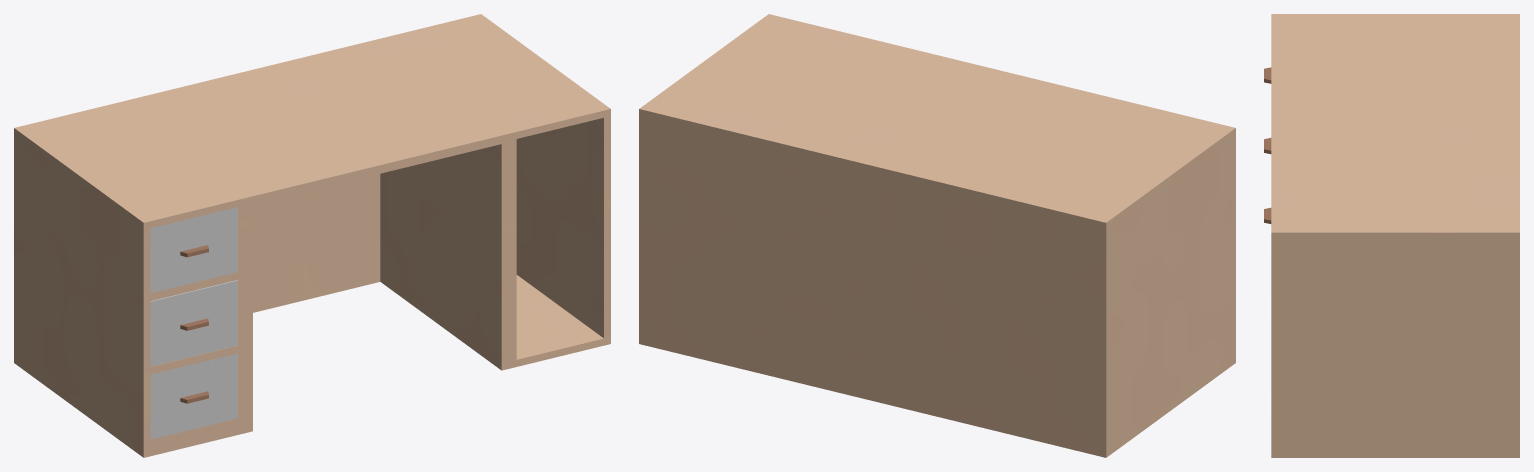
Rendered from Desk_02_02.fbx.
3 renders of one model, left to right at view 1: azimuth 30°, elevation 25°; view 2: azimuth 150°, elevation 25°; view 3: azimuth 270°, elevation 25°, orthographic. The views are drawn at different scales.
Parts seen in each view (by area): view 1: Desk_02_02, Desk_02_02_Drawer.001, Desk_02_02_Drawer.002, Desk_02_02_Drawer; view 2: Desk_02_02; view 3: Desk_02_02.
Boxes of the visible parts, x1,y1,x2,y2 form: Desk_02_02: (14, 14, 610, 457); Desk_02_02_Drawer.001: (150, 280, 237, 366); Desk_02_02_Drawer.002: (150, 353, 237, 439); Desk_02_02_Drawer: (150, 207, 237, 292); Desk_02_02: (639, 14, 1235, 457); Desk_02_02: (1271, 14, 1519, 457).
Bounding box in the file's own units: 1.69 × 0.8109 × 0.8343.
